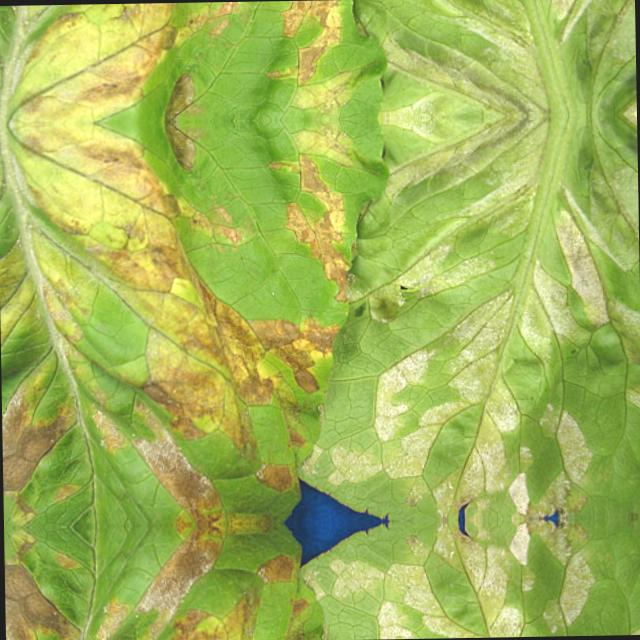Downy_mildew: (334, 114, 640, 507), (332, 0, 636, 115), (341, 529, 640, 639)
Lettuce - Anthracnose: (3, 118, 341, 527), (0, 0, 333, 122), (9, 520, 342, 640)
